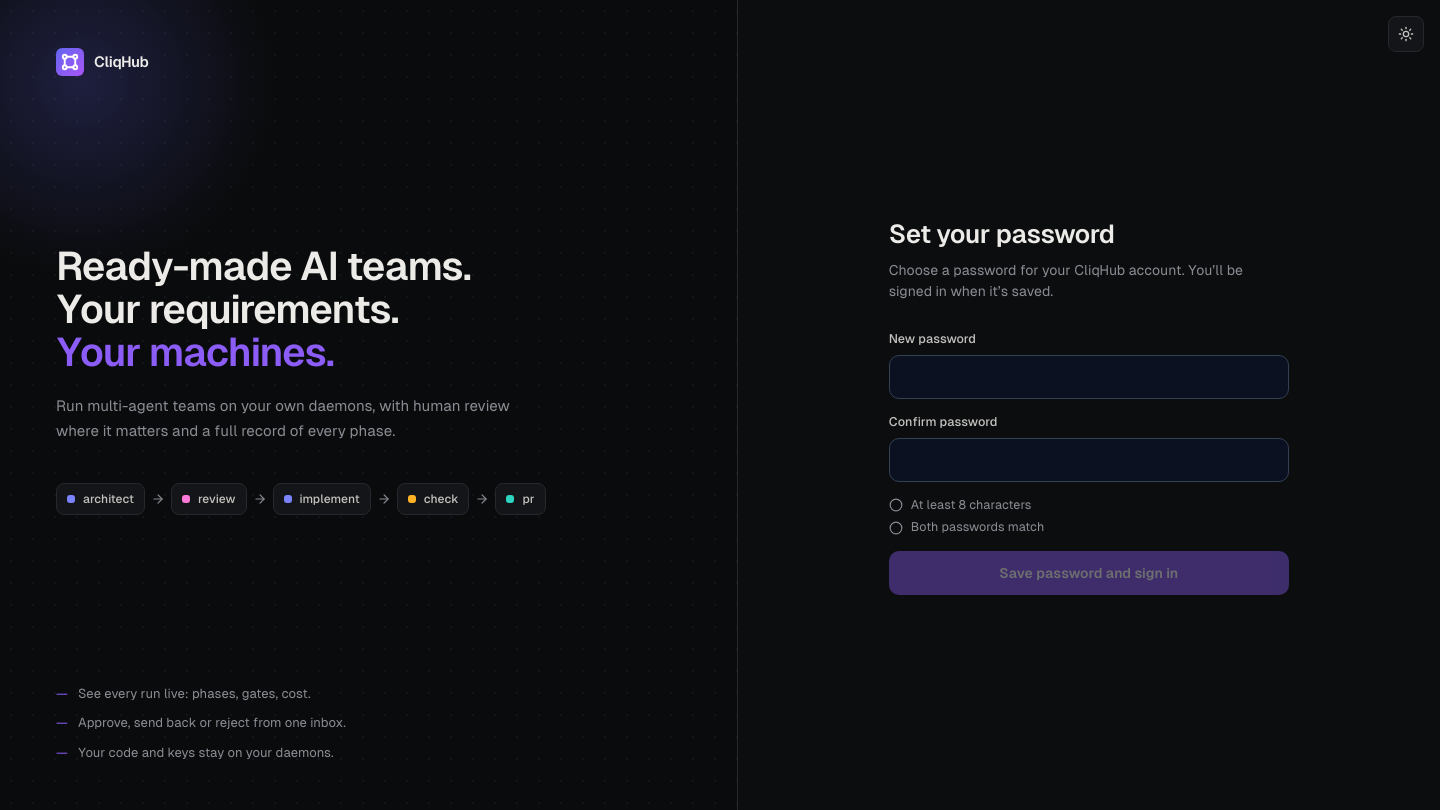
it: Set your password (/reset/:token) › 410 expired → “This link has expired” with a way to get a new link
Type "longpassword" into the password field labelled "New password". click: (1089, 377)
box: [889, 355, 1289, 399]
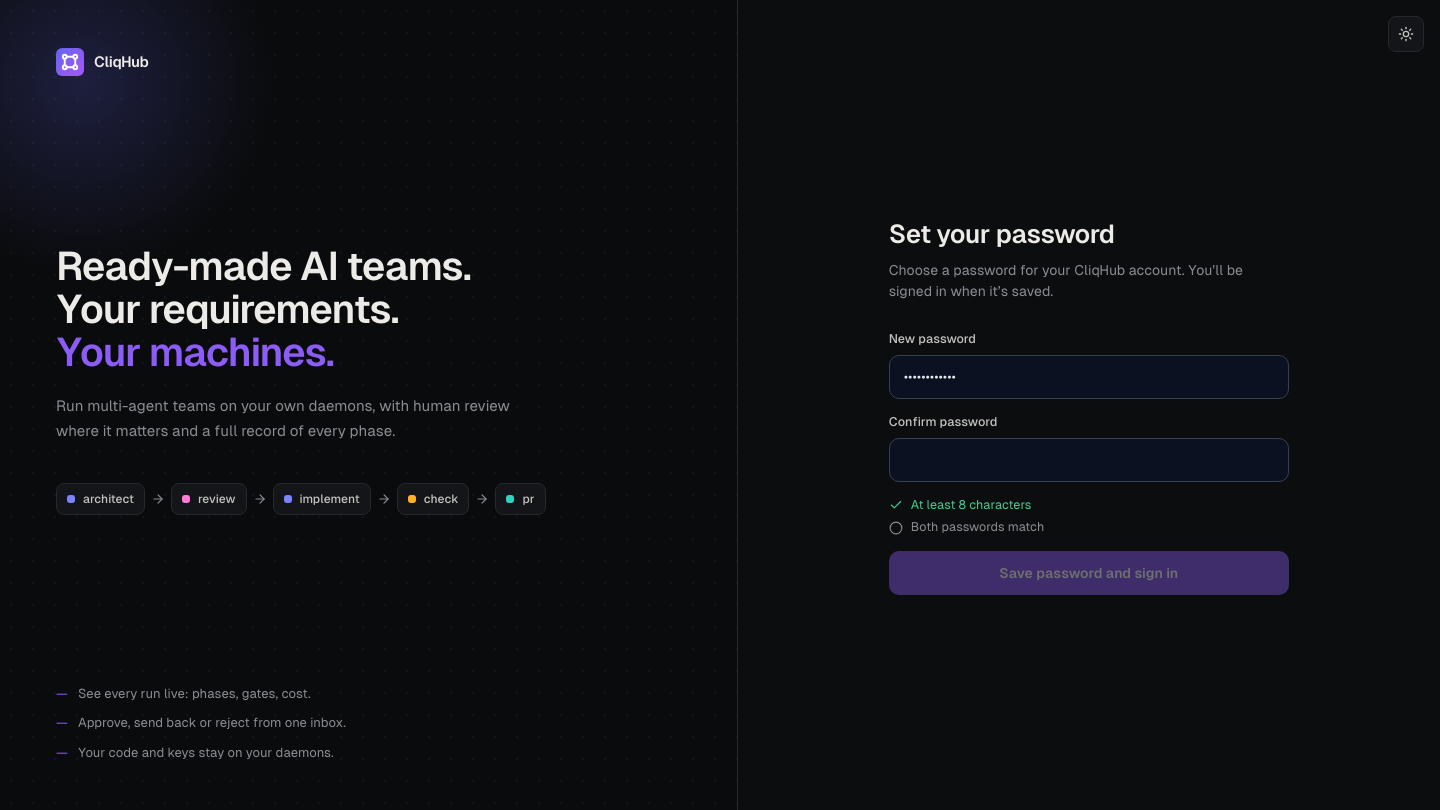
Type "longpassword" into the password field labelled "Confirm password". click: (1089, 460)
box: [889, 438, 1289, 482]
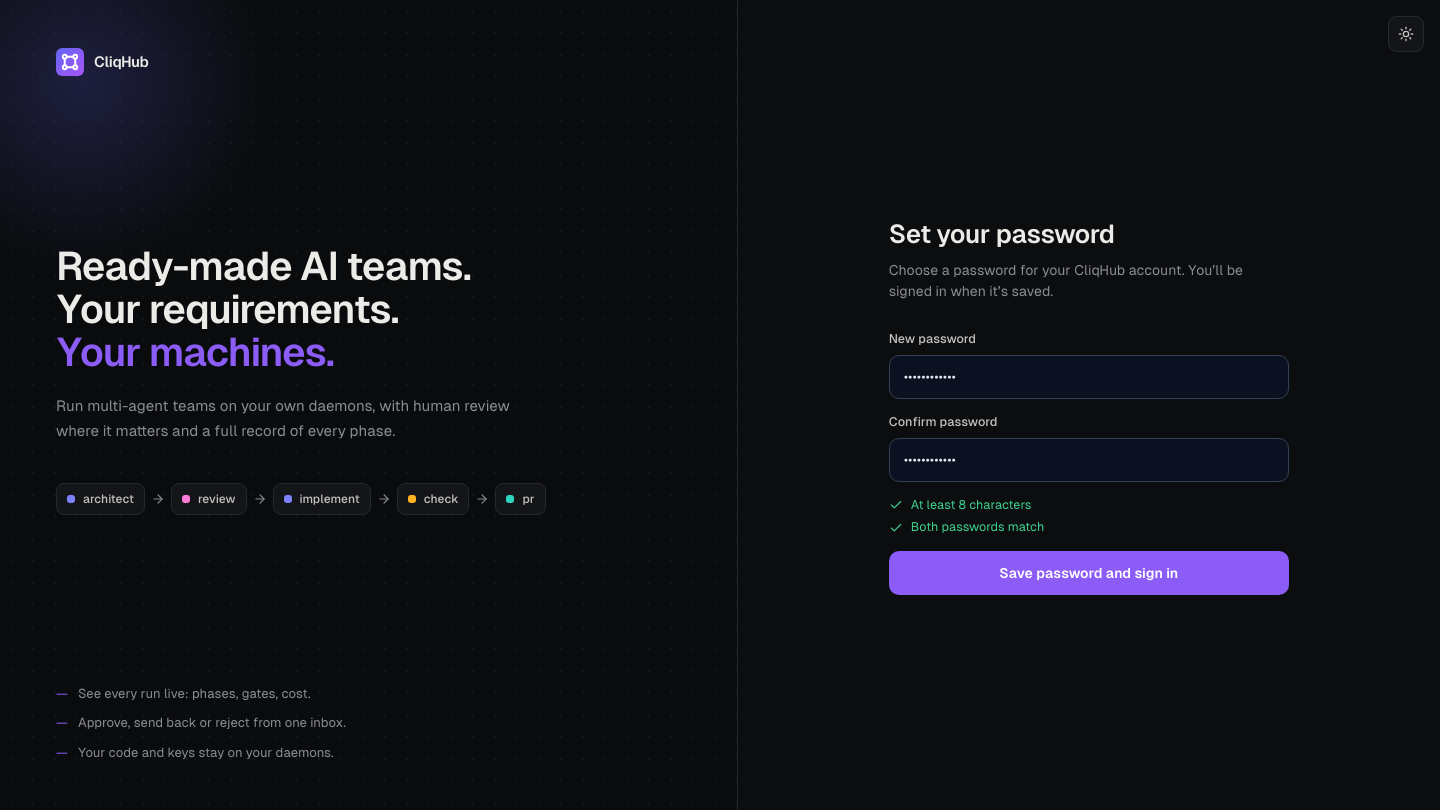
Click the button "Save password and sign in". click: (1089, 573)
box: [889, 551, 1289, 595]
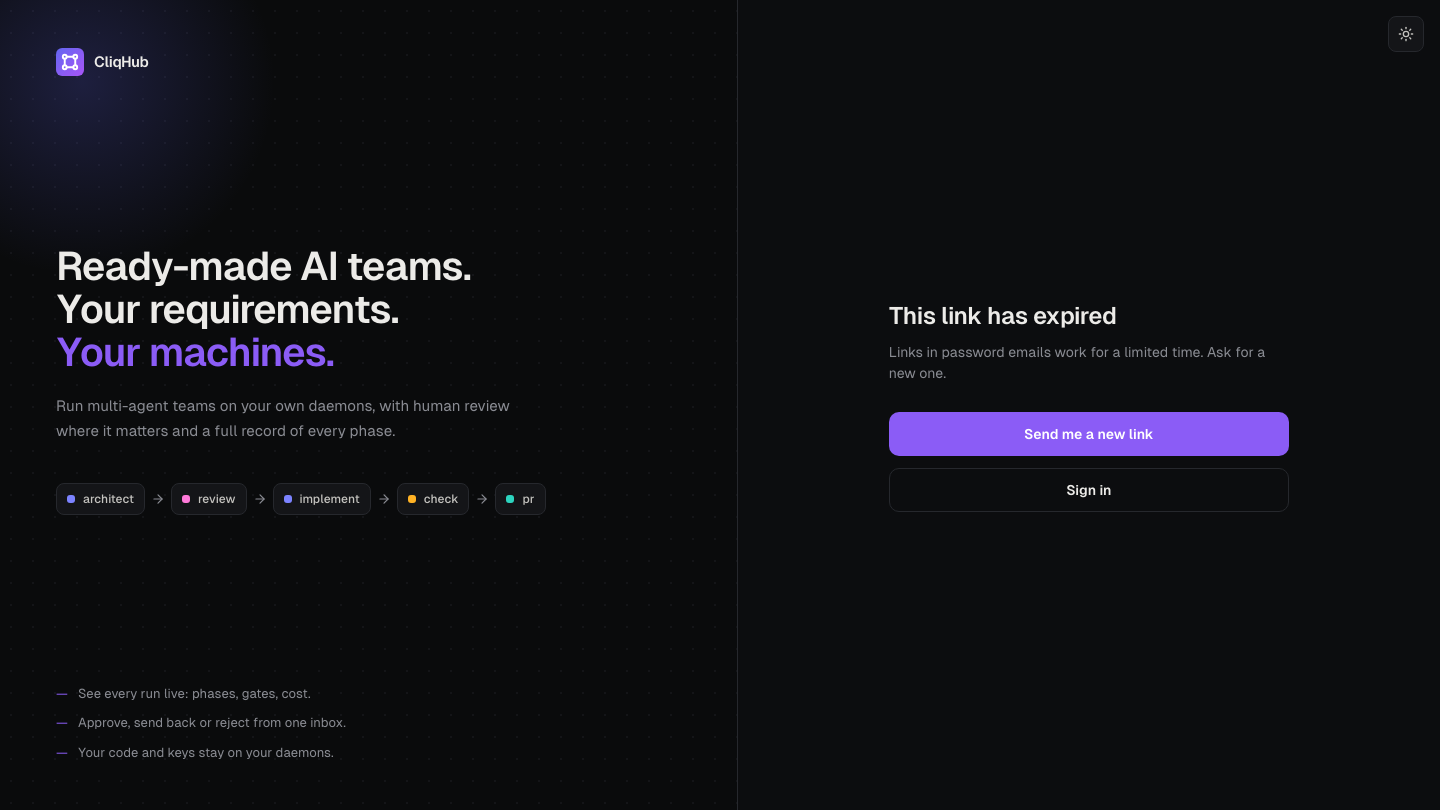
expect the heading "This link has expired" is shown: met, box [889, 302, 1117, 329]
